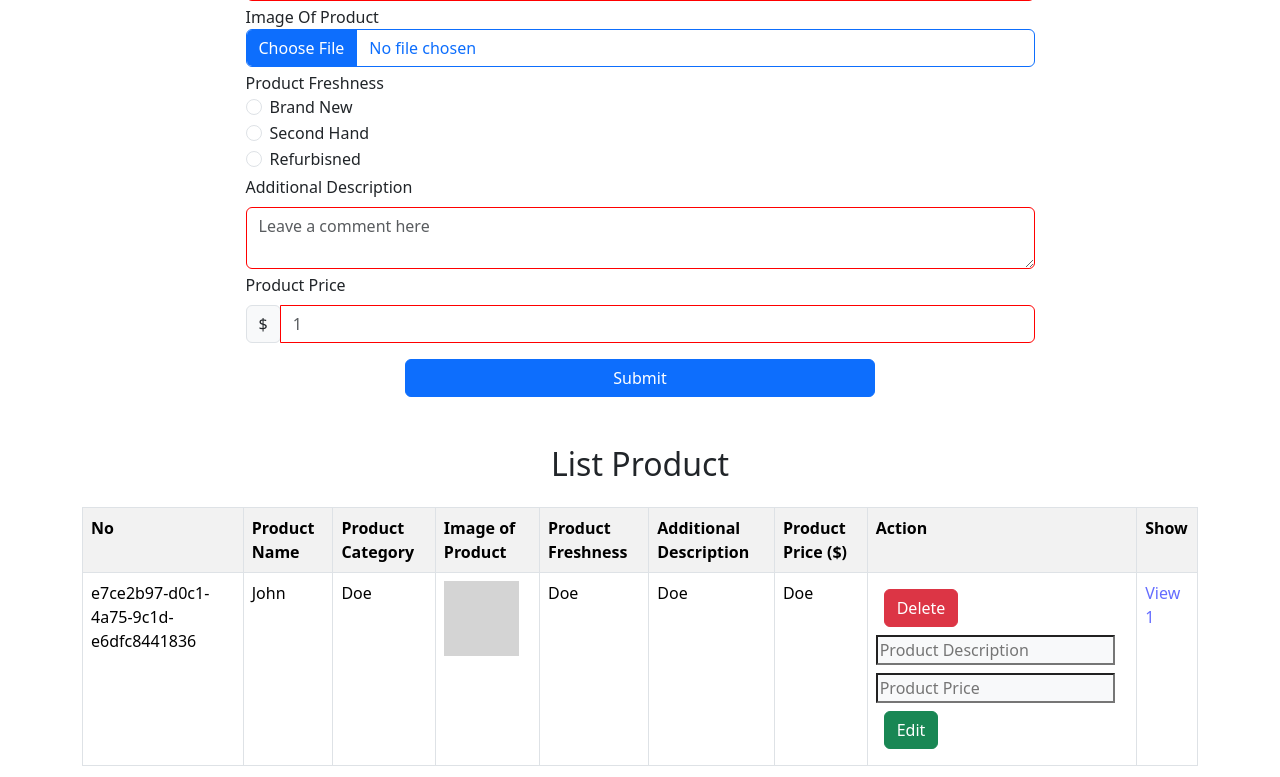
Test case: CreateProduct › Should show Error if formfield empty
(page scrolled)
Click the button with test id "submitTest": (640, 378) [405,359,875,397]
(page scrolled)
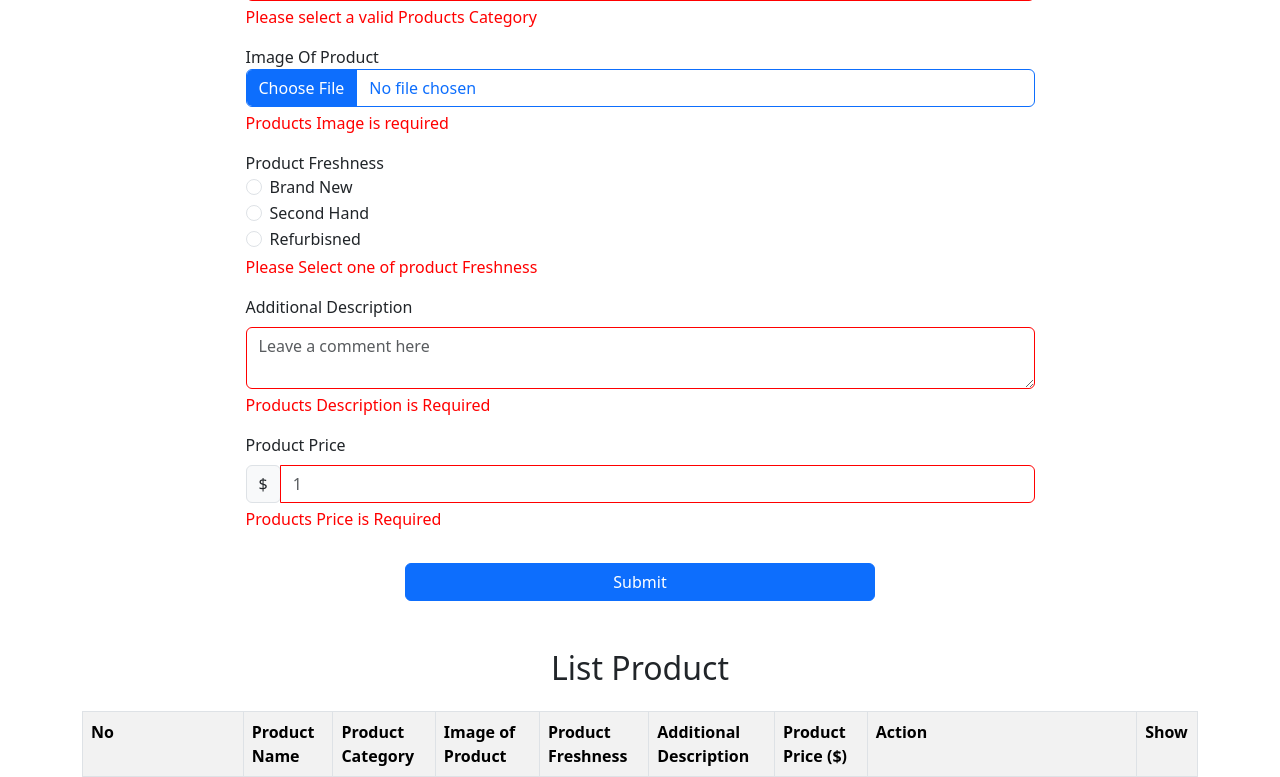
Result: the text "Please select a valid Products Category" is shown at [246,5,537,29]
Result: the text "Products Image is required" is shown at [246,111,449,135]
Result: the text "Please Select one of product Freshness" is shown at [246,255,537,279]
